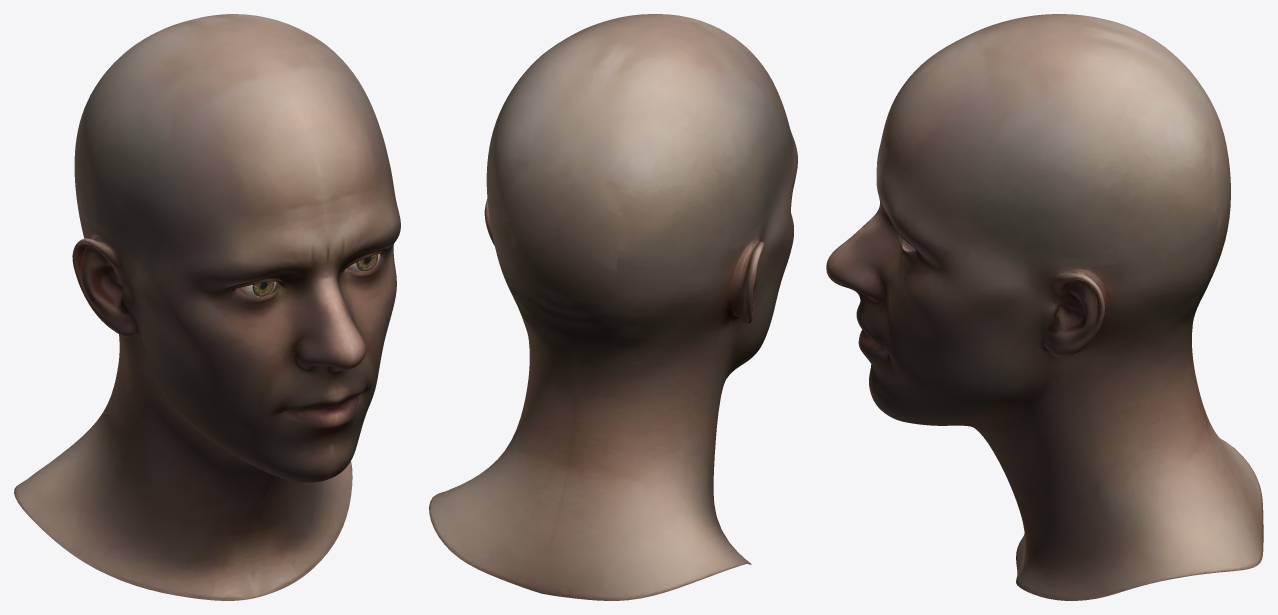
Rendered from head_eyes_v2.glb.
3 renders of one model, left to right at view 1: azimuth 30°, elevation 25°; view 2: azimuth 150°, elevation 25°; view 3: azimuth 270°, elevation 25°, orthographic. The views are drawn at different scales.
Visible parts, largest first — view 1: Mesh_MetaHumanHead.001; view 2: Mesh_MetaHumanHead.001; view 3: Mesh_MetaHumanHead.001.
Boxes of the visible parts, bbox=[...] form: Mesh_MetaHumanHead.001: bbox=[14, 14, 400, 600]; Mesh_MetaHumanHead.001: bbox=[429, 14, 797, 600]; Mesh_MetaHumanHead.001: bbox=[826, 14, 1263, 600].
Bounding box in the file's own units: 2.09 × 3.5 × 2.55.
4 materials, 3 textured.
